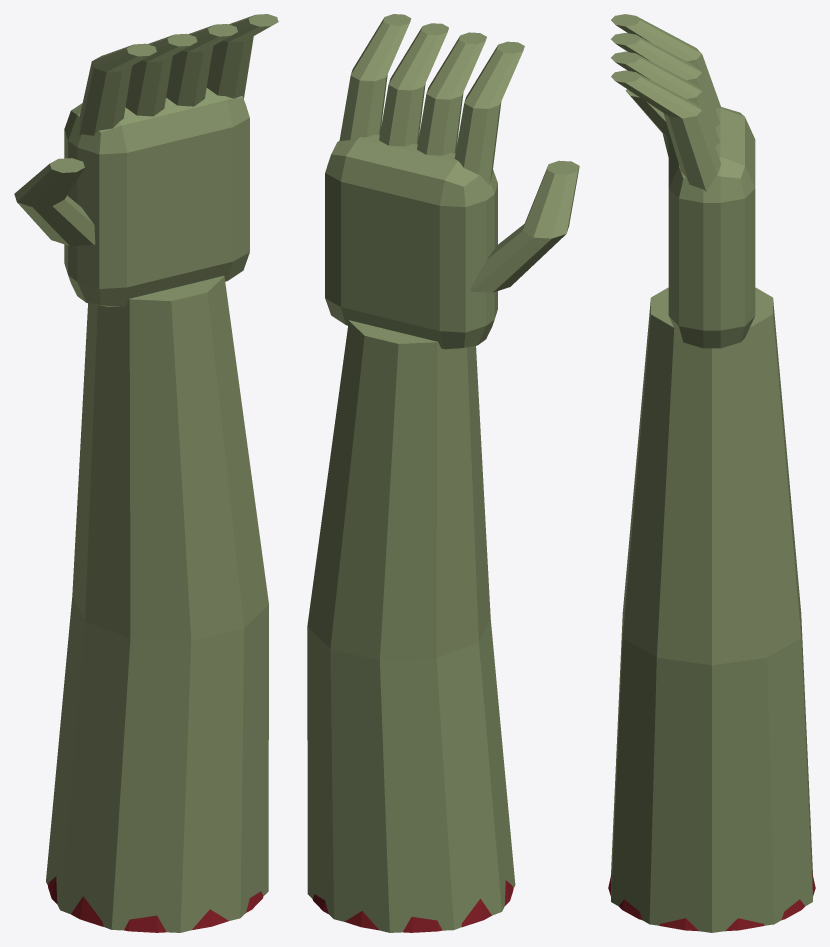
Rendered from Arm.fbx.
The picture shows the model from 3 angles, left to right: view 1: azimuth 30°, elevation 25°; view 2: azimuth 150°, elevation 25°; view 3: azimuth 270°, elevation 25°; orthographic projection. The views are drawn at different scales.
Visible parts, largest first — view 1: forearm, palm, thumb, finger, finger.003, finger.001, finger.002, torn end; view 2: forearm, palm, thumb, finger, finger.003, finger.002, finger.001, torn end; view 3: forearm, palm, finger.003, finger, finger.002, finger.001, torn end, thumb.
Part boxes in pixels (<box>): forearm: <box>46,276,268,932</box>; palm: <box>64,88,249,306</box>; thumb: <box>14,158,95,246</box>; finger: <box>79,43,156,135</box>; finger.003: <box>206,14,278,98</box>; finger.001: <box>125,33,197,116</box>; finger.002: <box>166,24,237,106</box>; torn end: <box>48,876,263,932</box>; forearm: <box>307,320,515,932</box>; palm: <box>325,134,497,349</box>; thumb: <box>469,160,579,292</box>; finger: <box>454,41,524,184</box>; finger.003: <box>339,14,411,140</box>; finger.002: <box>379,23,448,146</box>; finger.001: <box>417,32,486,155</box>; torn end: <box>312,880,513,932</box>; forearm: <box>611,287,812,932</box>; palm: <box>668,107,755,348</box>; finger.003: <box>611,70,721,191</box>; finger: <box>611,14,721,108</box>; finger.002: <box>611,51,719,146</box>; finger.001: <box>611,33,719,127</box>; torn end: <box>608,873,815,931</box>; thumb: <box>625,89,670,156</box>.
Bounding box in the file's own units: 11.2 × 37.5 × 8.4.
